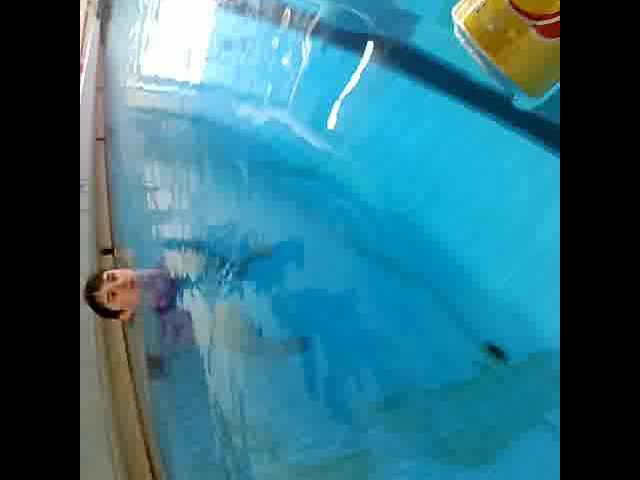Can: (436, 0, 542, 126)
